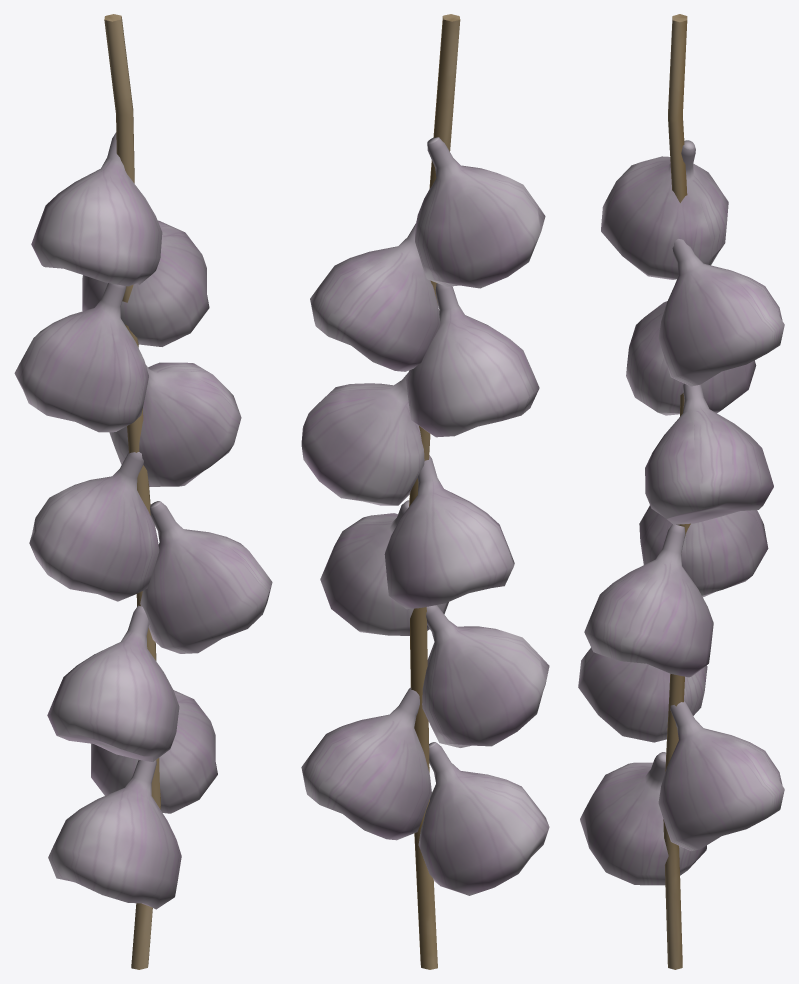
File: Garlic.fbx
The picture shows the model from 3 angles, left to right: view 1: azimuth 30°, elevation 25°; view 2: azimuth 150°, elevation 25°; view 3: azimuth 270°, elevation 25°; orthographic projection. The views are drawn at different scales.
Visible parts, largest first — view 1: GarlicClove6, GarlicClove4, GarlicClove3, GarlicClove, GarlicClove2, GarlicClove8, GarlicClove5, GarlicClove7, GarlicClove1, GarlicStickThing; view 2: GarlicClove8, GarlicClove2, GarlicClove, GarlicClove1, GarlicClove6, GarlicClove5, GarlicClove4, GarlicClove7, GarlicClove3, GarlicStickThing; view 3: GarlicClove1, GarlicClove7, GarlicClove3, GarlicClove5, GarlicClove8, GarlicClove, GarlicClove2, GarlicClove4, GarlicStickThing, GarlicClove6.
Boxes of the visible parts, x1,y1,x2,y2 form: GarlicClove6: (14, 283, 148, 432); GarlicClove4: (29, 452, 159, 601); GarlicClove3: (140, 501, 272, 653); GarlicClove: (48, 760, 181, 909); GarlicClove2: (47, 605, 179, 761); GarlicClove8: (31, 132, 162, 286); GarlicClove5: (109, 362, 241, 486); GarlicClove7: (82, 220, 209, 346); GarlicClove1: (91, 690, 217, 813); GarlicStickThing: (104, 14, 160, 969); GarlicClove8: (414, 137, 545, 288); GarlicClove2: (422, 605, 549, 747); GarlicClove: (418, 742, 549, 895); GarlicClove1: (301, 687, 431, 840); GarlicClove6: (406, 283, 539, 437); GarlicClove5: (301, 372, 424, 505); GarlicClove4: (384, 455, 514, 609); GarlicClove7: (310, 223, 440, 371); GarlicClove3: (320, 500, 448, 635); GarlicStickThing: (409, 14, 460, 969); GarlicClove1: (658, 700, 784, 850); GarlicClove7: (658, 239, 784, 386); GarlicClove3: (584, 524, 713, 677); GarlicClove5: (645, 383, 773, 524); GarlicClove8: (601, 140, 728, 279); GarlicClove: (580, 752, 706, 885); GarlicClove2: (578, 647, 707, 742); GarlicClove4: (639, 505, 768, 597); GarlicStickThing: (663, 14, 690, 969); GarlicClove6: (626, 280, 756, 415).
Size of the model in its own units: 2.6 by 10.97 by 2.2.
